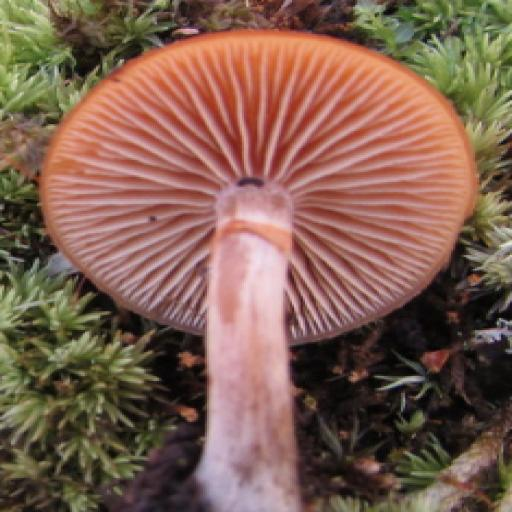mushroom: (30, 22, 483, 415)
